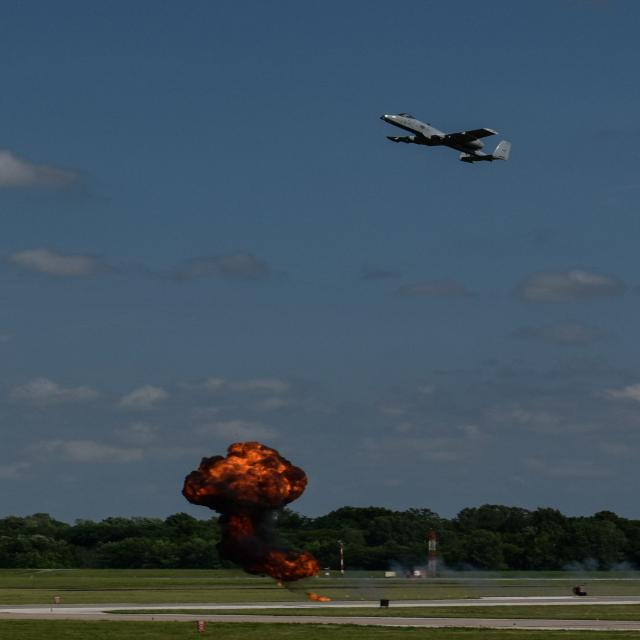MIL_Plane: (378, 113, 512, 164)
